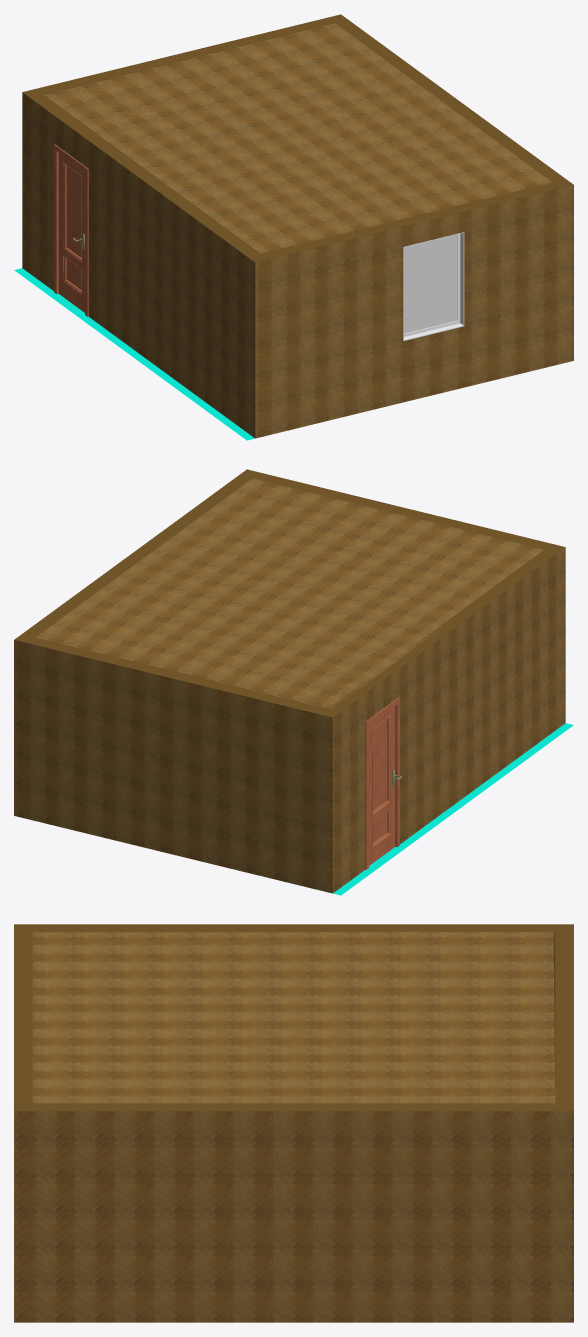
Rendered from village_pecheurs_port.glb.
3 renders of one model, top to bottom at view 1: azimuth 30°, elevation 25°; view 2: azimuth 150°, elevation 25°; view 3: azimuth 270°, elevation 25°, orthographic. The views are drawn at different scales.
Parts seen in each view (by area): view 1: Village_pecheurs_port; view 2: Village_pecheurs_port; view 3: Village_pecheurs_port.
Part boxes in pixels (x1=…): Village_pecheurs_port: x1=14, y1=14, x2=573, y2=440; Village_pecheurs_port: x1=14, y1=469, x2=573, y2=895; Village_pecheurs_port: x1=14, y1=924, x2=573, y2=1322.
Size of the model in its own units: 140 by 71.72 by 172.
Materials: 6 (2 with a texture image).
